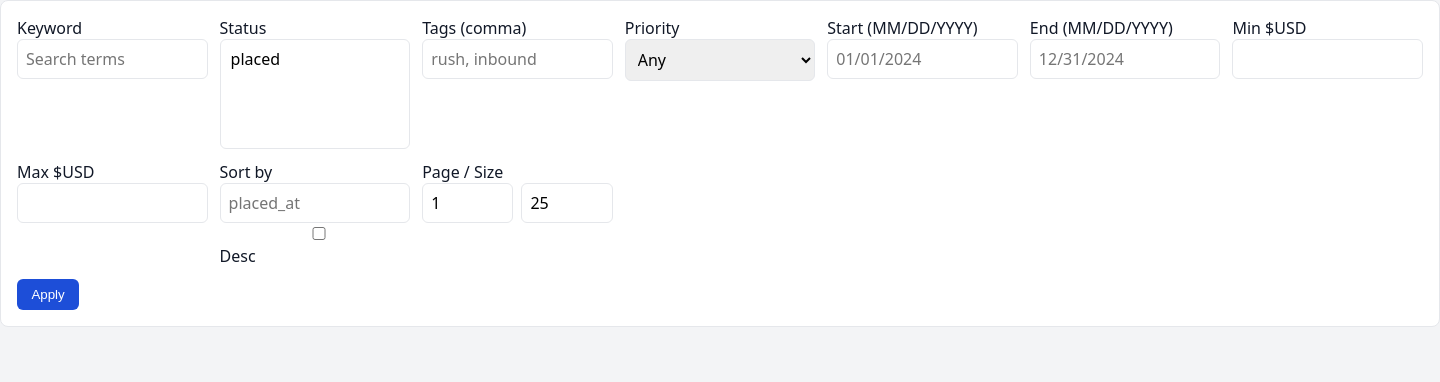
AdvancedFilters › rejects non-MM/DD/YYYY dates
This screenshot has width=1440, height=382.
# Find the Start field (first textbox is Keyword).
Type "2024-01-01" into the field with placeholder "01/01/2024" at coordinates (923, 59), box [827,39,1018,79]
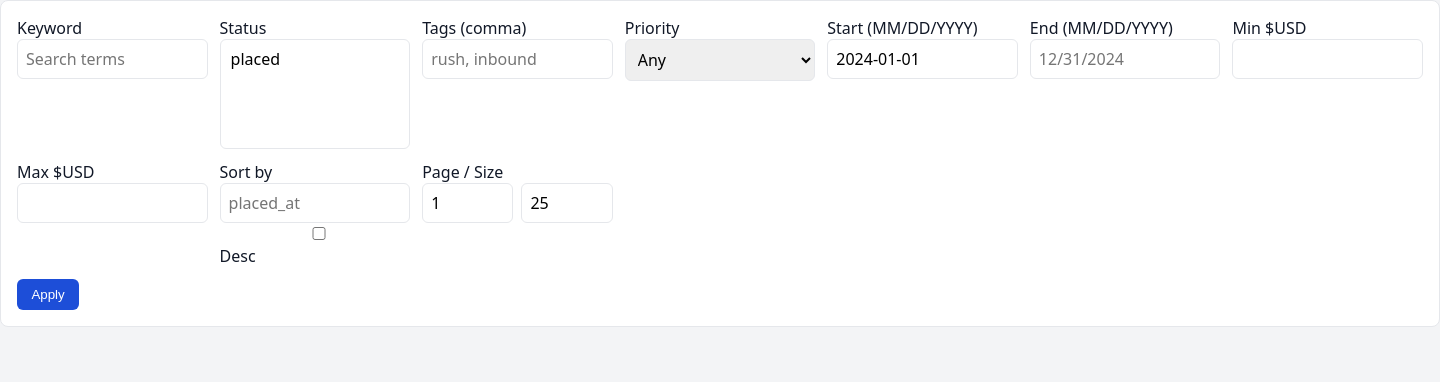
Click the button "Apply" at coordinates (48, 294), box [17,279,79,310]
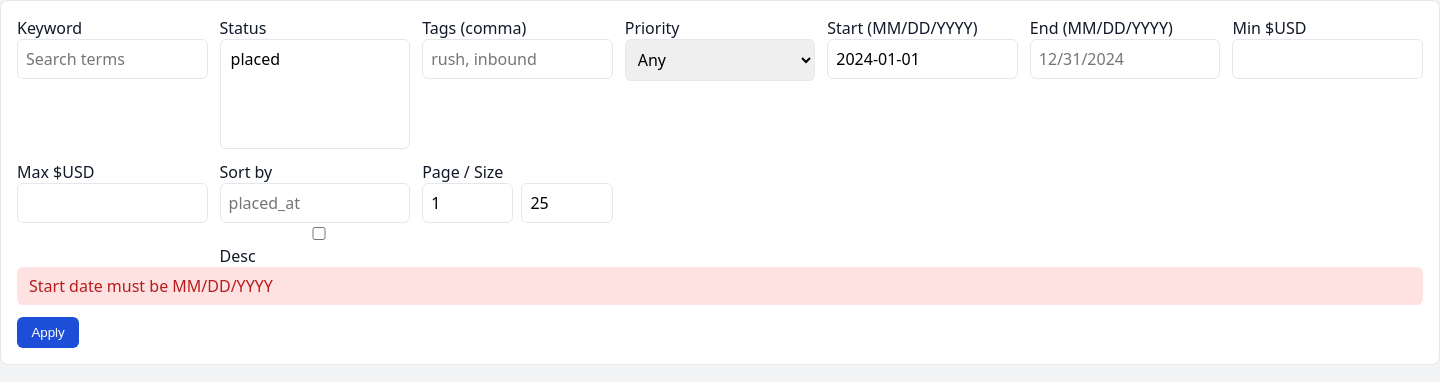
Check: the message shows "MM/DD/YYYY", box [29,275,273,297]
